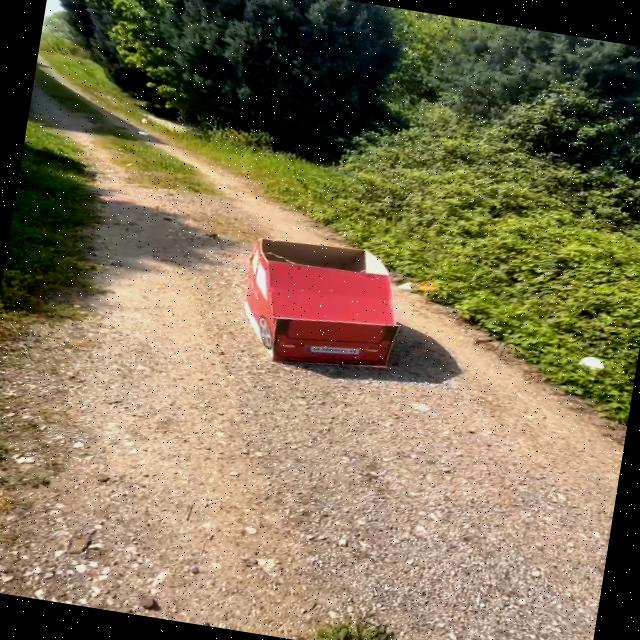red_car: (209, 217, 456, 409)
